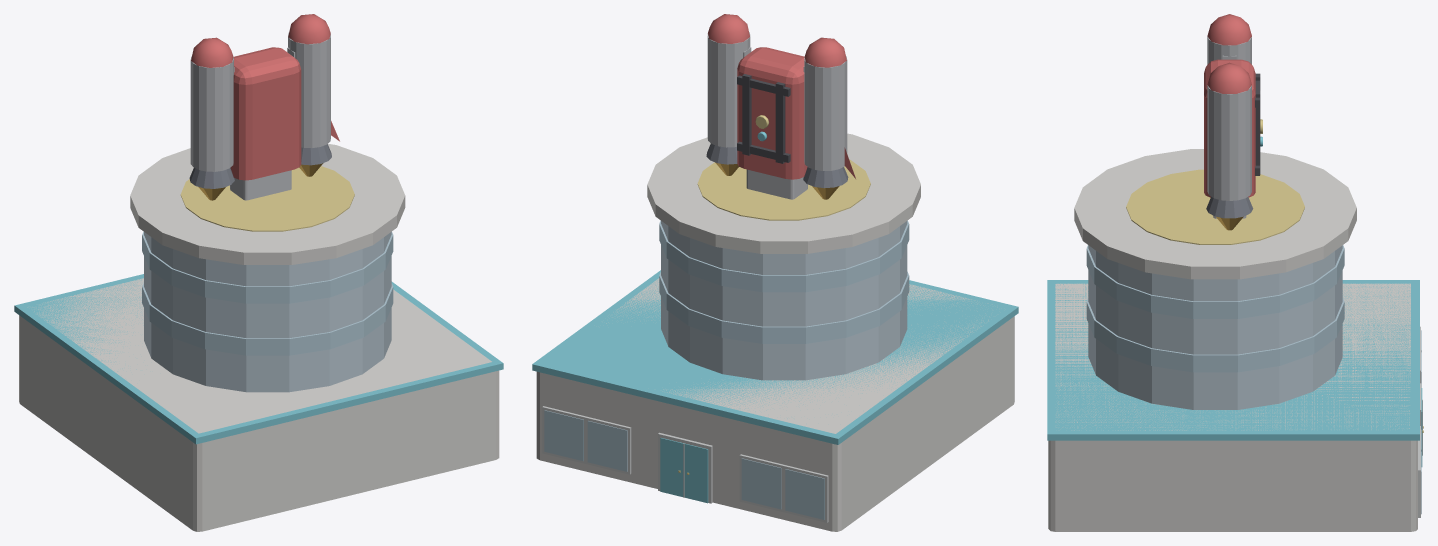
The model's file is centro-jetpack-bbbdcb1a.glb.
3 renders of one model, left to right at view 1: azimuth 30°, elevation 25°; view 2: azimuth 150°, elevation 25°; view 3: azimuth 270°, elevation 25°, orthographic. The views are drawn at different scales.
Parts seen in each view (by area): view 1: centro_jetpack_body, centro_jetpack_glow; view 2: centro_jetpack_body, centro_jetpack_glow; view 3: centro_jetpack_body, centro_jetpack_glow.
Part boxes in pixels (x1,y1,x2,y2): centro_jetpack_body: (14, 144, 503, 531); centro_jetpack_glow: (189, 14, 339, 200); centro_jetpack_body: (532, 133, 1018, 531); centro_jetpack_glow: (706, 14, 855, 199); centro_jetpack_body: (1047, 149, 1423, 531); centro_jetpack_glow: (1204, 14, 1262, 230).
Size of the model in its own units: 15.5 by 19.45 by 15.99.
